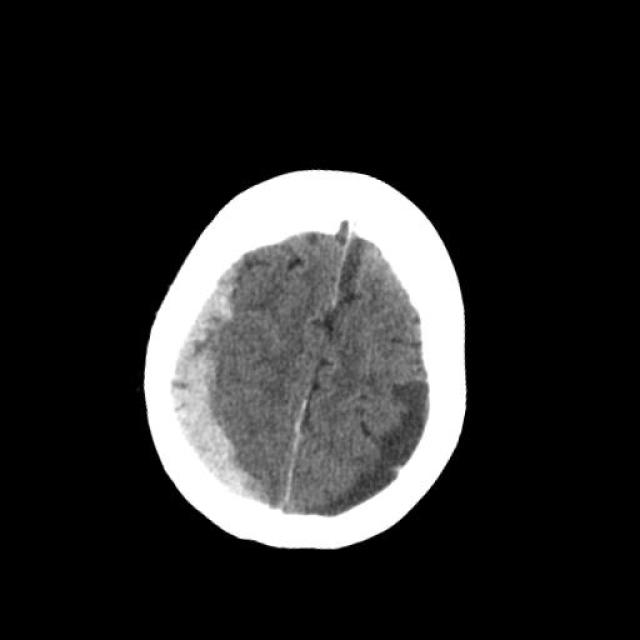Subdural: (120, 245, 325, 534)
